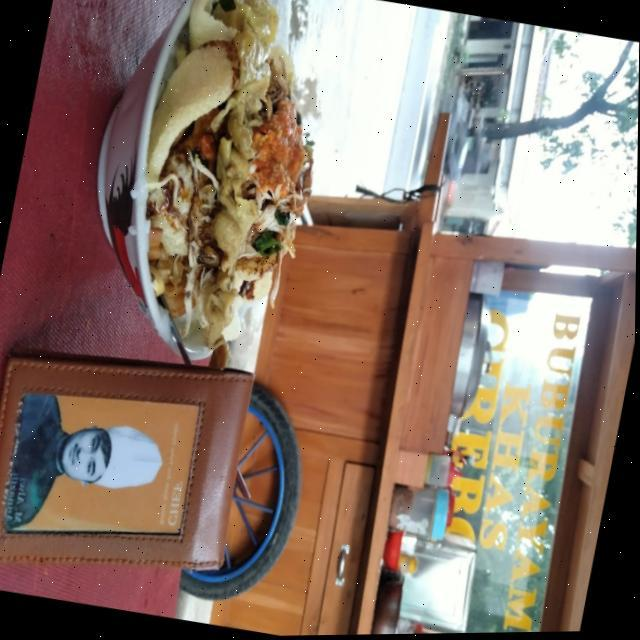bubur ayam: (111, 0, 346, 350)
mangkuk: (59, 0, 264, 367), (366, 576, 406, 634), (378, 528, 404, 572)
sambal: (239, 95, 315, 200)
